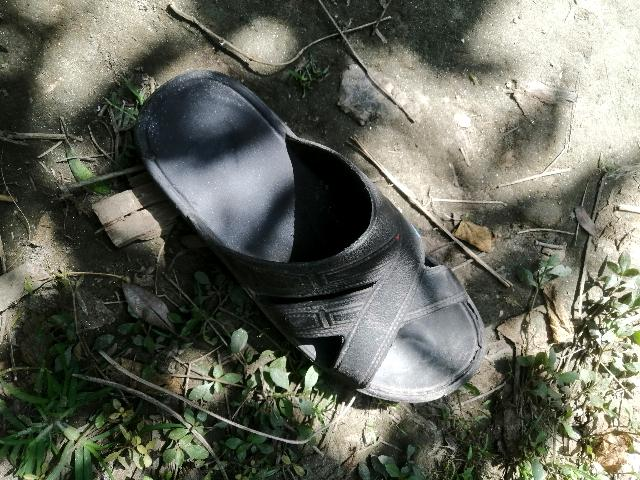sandal: (106, 34, 509, 435)
